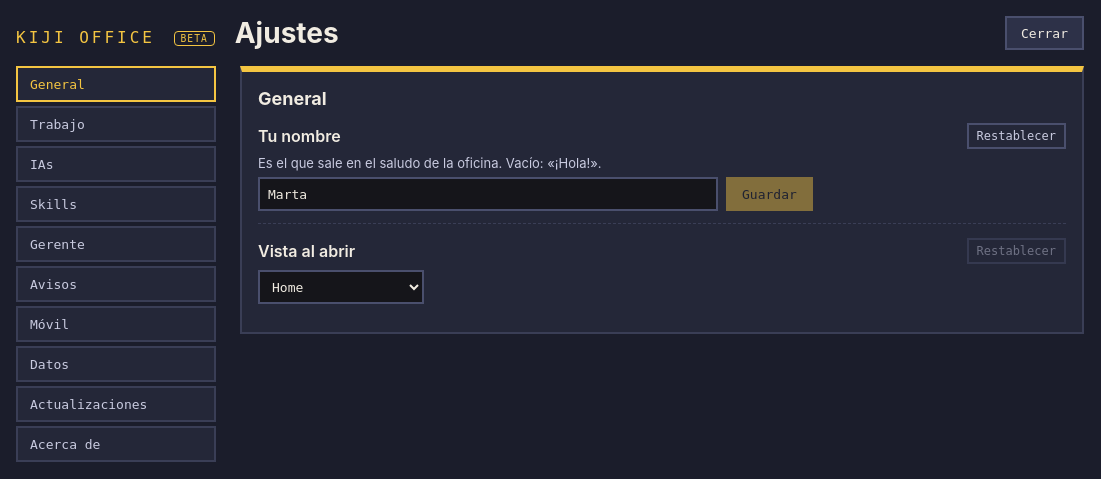
it: SettingsScreen › Restablecer guarda el defecto
Expected: the field labelled "Tu nombre" is shown, x1=258 y1=177 x2=718 y2=211
Click the button with aria-label "Restablecer Tu nombre".
click(1016, 136)  # box x1=966 y1=123 x2=1066 y2=149
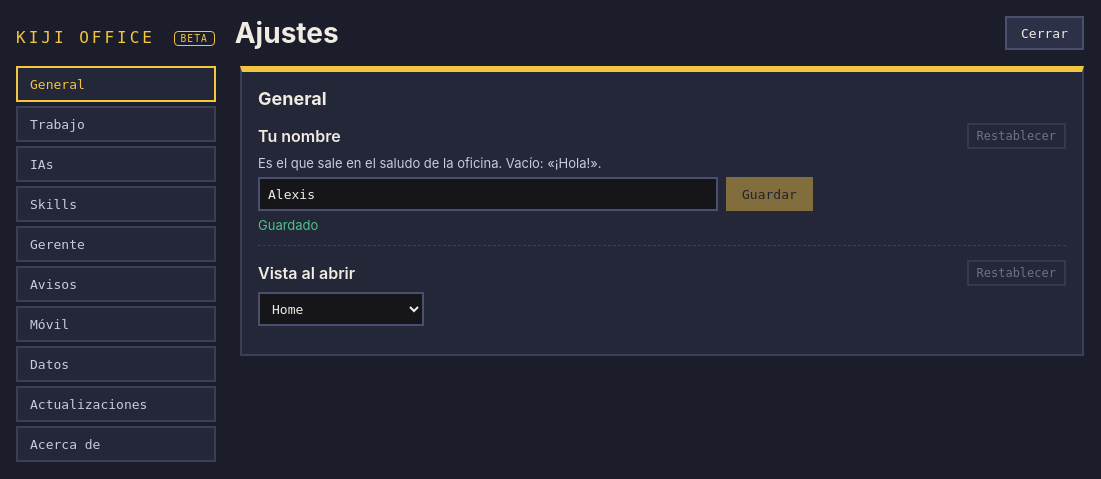
Now the button with aria-label "Restablecer Tu nombre" is disabled, box x1=966 y1=123 x2=1066 y2=149
